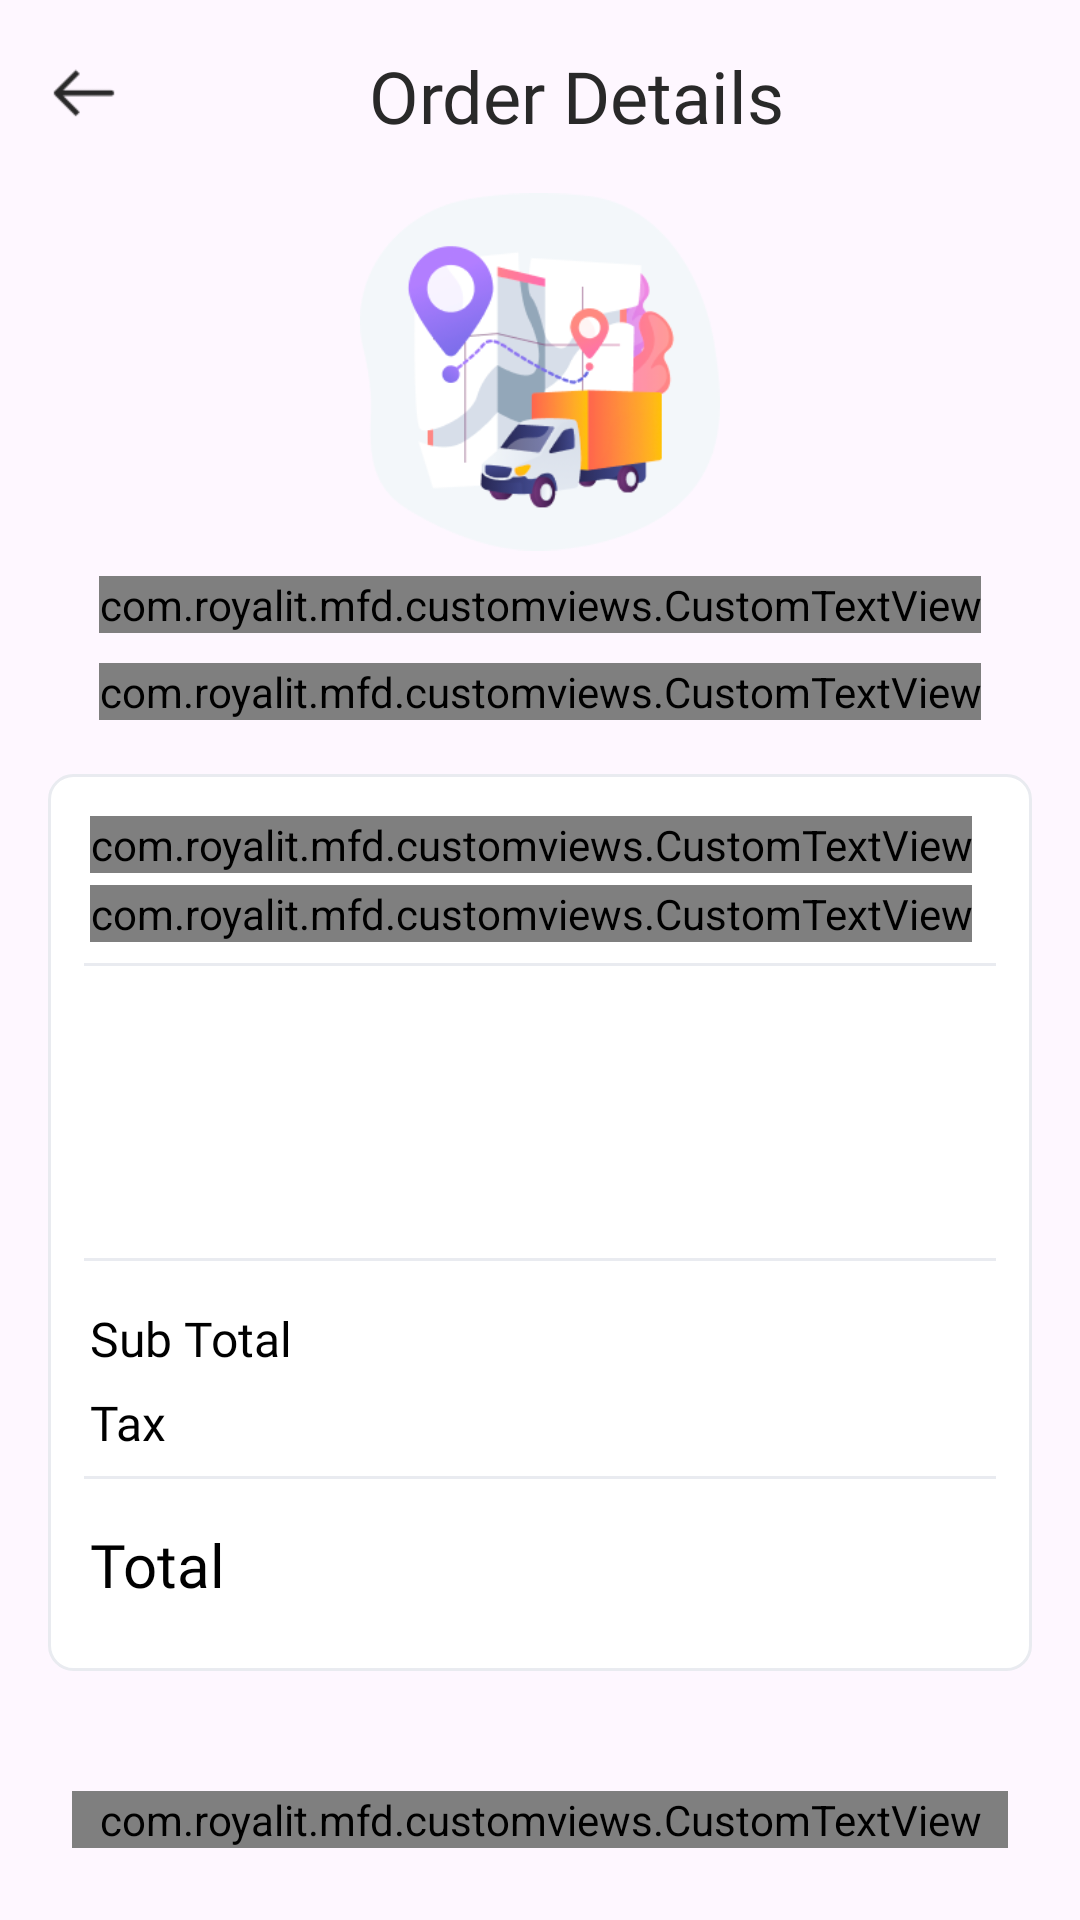

Where to tap for icons on this 1080x1920 app screen, as (x,y):
arrow left: (84,92)
